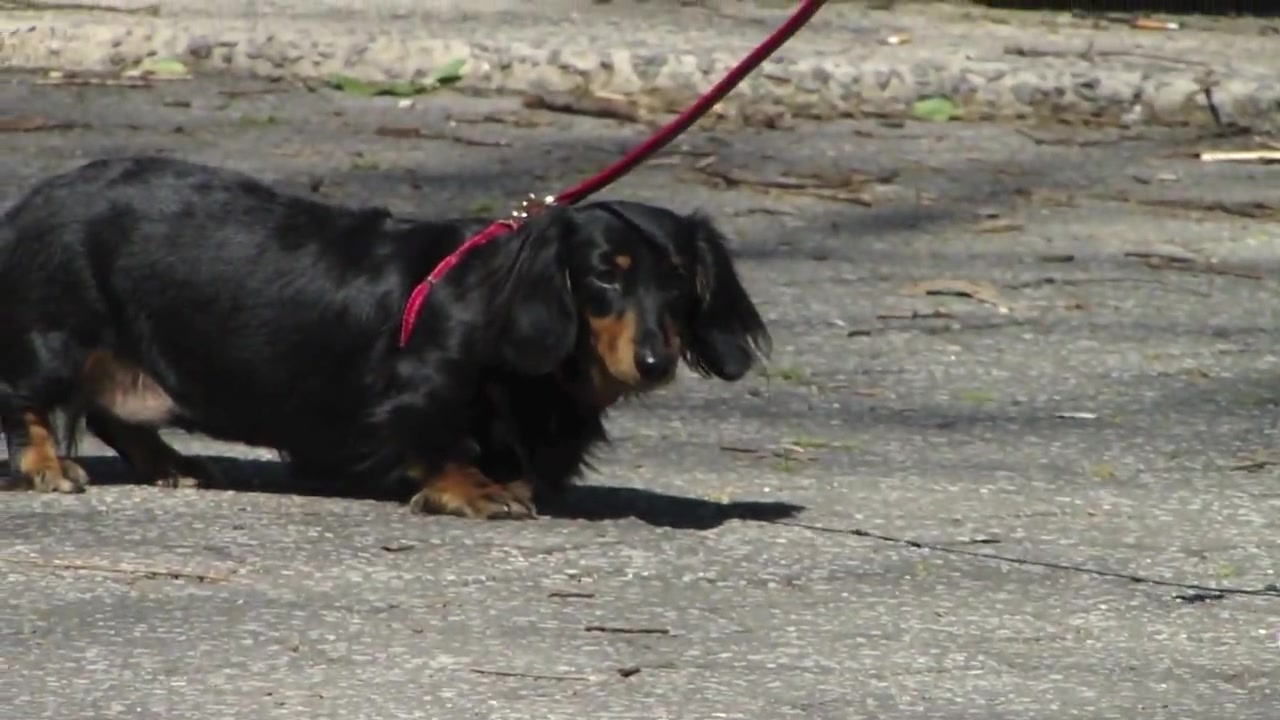dog: (1, 133, 771, 522)
